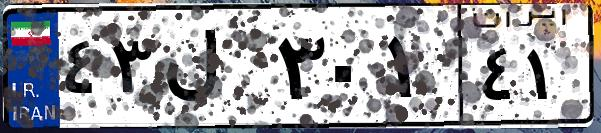0: (330, 28, 385, 110)
1: (385, 28, 445, 110), (525, 38, 570, 115)
3: (270, 28, 330, 110), (110, 28, 158, 98)
4: (57, 26, 110, 100), (475, 38, 525, 113)
ل: (158, 20, 270, 120)
